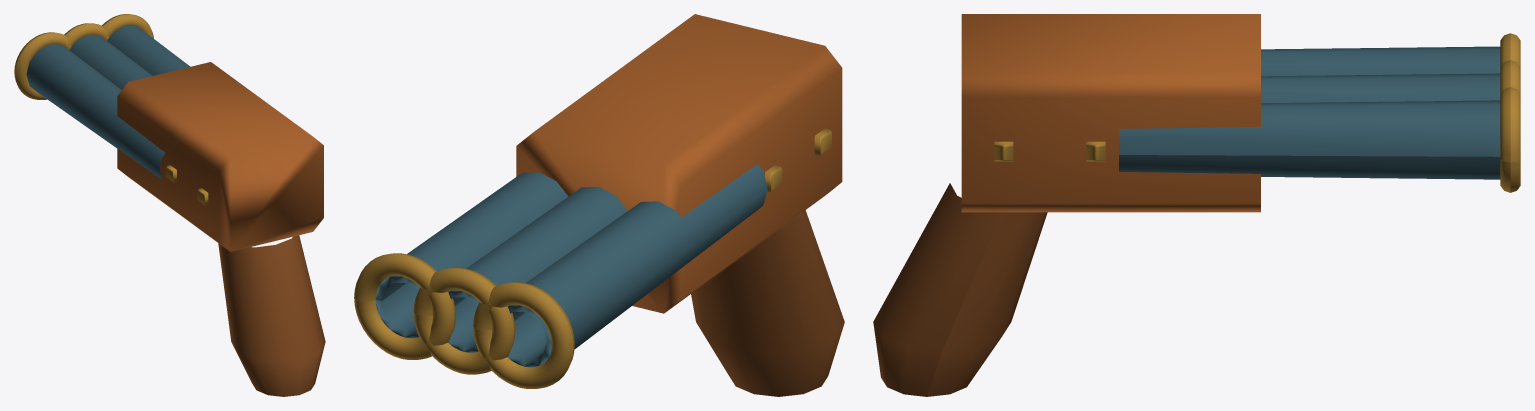
The model's file is weapon_shotgun.glb.
The picture shows the model from 3 angles, left to right: view 1: azimuth 30°, elevation 25°; view 2: azimuth 150°, elevation 25°; view 3: azimuth 270°, elevation 25°; orthographic projection. The views are drawn at different scales.
Visible parts, largest first — view 1: ShapedReceiver, Grip, HollowBarrel0, HollowBarrel1, HollowBarrel2, BarrelCuff0, BarrelCuff2, BarrelCuff1; view 2: ShapedReceiver, Grip, HollowBarrel0, HollowBarrel2, HollowBarrel1, BarrelCuff0, BarrelCuff2, BarrelCuff1; view 3: ShapedReceiver, HollowBarrel2, Grip, HollowBarrel1, HollowBarrel0, BarrelCuff2, BarrelCuff1, BarrelCuff0.
Part boxes in pixels (box(x1,y1,x2,y2)): ShapedReceiver: box(117, 62, 323, 251); Grip: box(218, 235, 325, 396); HollowBarrel0: box(26, 44, 165, 180); HollowBarrel1: box(69, 35, 152, 89); HollowBarrel2: box(107, 25, 190, 75); BarrelCuff0: box(14, 32, 71, 99); BarrelCuff2: box(102, 14, 153, 40); BarrelCuff1: box(64, 23, 108, 48); ShapedReceiver: box(516, 14, 842, 313); Grip: box(691, 210, 844, 396); HollowBarrel0: box(507, 164, 767, 367); HollowBarrel2: box(375, 172, 568, 338); HollowBarrel1: box(448, 186, 627, 352); BarrelCuff0: box(473, 282, 574, 388); BarrelCuff2: box(354, 253, 455, 359); BarrelCuff1: box(413, 268, 515, 374); ShapedReceiver: box(961, 14, 1260, 212); HollowBarrel2: box(1119, 100, 1500, 179); Grip: box(873, 183, 1047, 396); HollowBarrel1: box(1261, 73, 1500, 103); HollowBarrel0: box(1261, 46, 1500, 76); BarrelCuff2: box(1500, 87, 1520, 192); BarrelCuff1: box(1500, 60, 1520, 93); BarrelCuff0: box(1500, 33, 1520, 66).
Size of the model in its own units: 0.304 by 0.48 by 0.8433.
